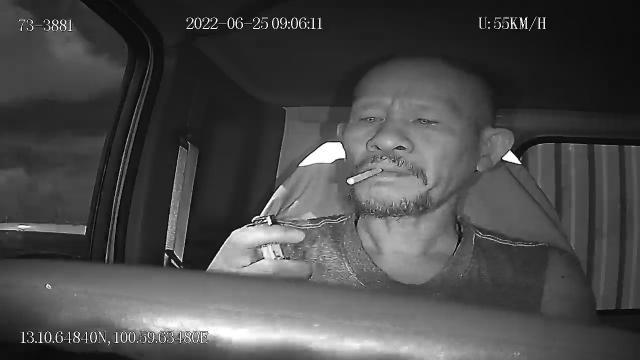SafeDriving: (404, 106, 449, 132), (349, 104, 388, 132)
Smoking: (346, 167, 382, 185)
